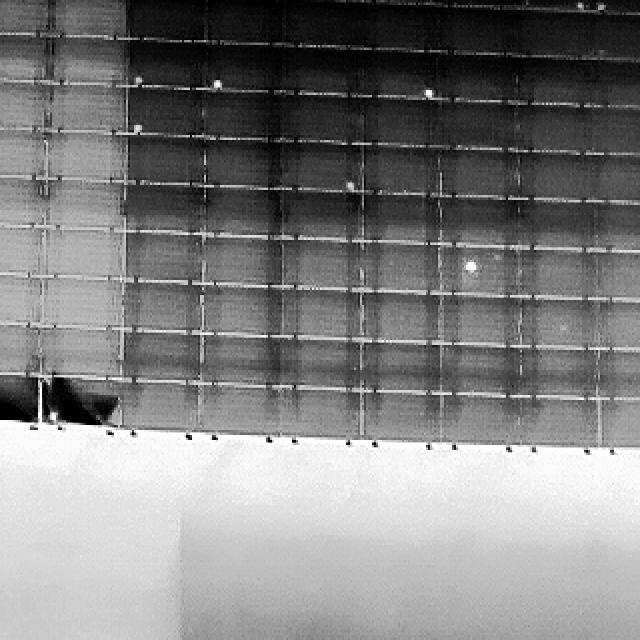Hotspots: (413, 78, 436, 103), (461, 251, 482, 278), (338, 174, 360, 198), (44, 408, 67, 423), (129, 121, 145, 139), (594, 0, 614, 12), (132, 76, 146, 90), (211, 78, 223, 92), (574, 0, 586, 12), (416, 0, 430, 5)
PV-modules: (199, 385, 286, 439), (200, 334, 284, 388), (281, 241, 366, 294), (117, 380, 200, 434), (437, 394, 523, 446), (40, 324, 121, 378), (282, 46, 366, 98), (518, 396, 602, 448), (119, 330, 202, 382), (281, 190, 364, 242), (361, 341, 442, 394), (282, 287, 364, 339), (440, 296, 522, 348), (281, 338, 363, 390), (363, 391, 443, 444), (202, 284, 285, 335), (120, 182, 204, 232), (41, 375, 120, 428), (279, 139, 361, 190), (203, 187, 283, 239), (119, 280, 202, 330), (282, 97, 365, 147), (282, 386, 360, 439), (39, 277, 120, 328), (442, 343, 523, 394), (521, 345, 602, 396), (364, 242, 443, 294), (39, 231, 121, 281), (42, 132, 124, 182), (439, 100, 521, 150), (201, 237, 283, 287), (515, 55, 597, 105), (520, 299, 600, 350), (121, 234, 202, 284), (43, 178, 122, 229), (361, 144, 440, 195), (436, 54, 518, 103), (359, 47, 436, 99), (123, 133, 203, 183), (438, 198, 518, 248), (204, 44, 285, 93), (361, 291, 440, 341), (439, 147, 518, 197), (128, 42, 210, 90), (46, 82, 124, 132), (126, 89, 204, 139), (360, 1, 438, 51), (520, 198, 596, 249), (362, 194, 438, 245), (437, 5, 516, 54), (201, 93, 282, 140), (362, 100, 438, 150), (204, 137, 283, 185), (517, 105, 592, 155), (519, 249, 593, 299), (280, 0, 362, 45), (49, 38, 124, 87), (517, 155, 593, 203), (516, 12, 590, 60), (204, 0, 286, 42), (122, 0, 208, 38), (48, 0, 124, 38), (463, 248, 519, 298), (590, 105, 640, 155), (591, 156, 640, 205), (0, 78, 48, 128), (592, 250, 640, 300), (593, 200, 640, 251), (0, 35, 48, 83), (594, 301, 640, 351), (0, 175, 44, 227), (0, 125, 44, 177), (592, 16, 640, 63), (597, 346, 640, 398), (595, 59, 640, 107), (599, 398, 640, 449), (0, 320, 40, 372), (0, 228, 40, 278), (0, 273, 38, 325), (0, 375, 38, 423), (0, 0, 48, 35), (586, 0, 640, 15), (520, 0, 592, 10), (440, 0, 522, 8), (360, 0, 438, 8), (282, 0, 362, 2)
